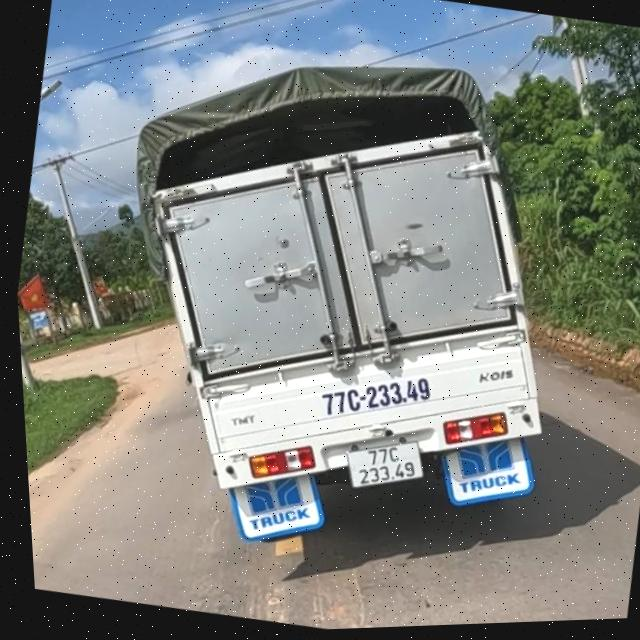car: (64, 10, 610, 603)
plate: (334, 428, 437, 505)
